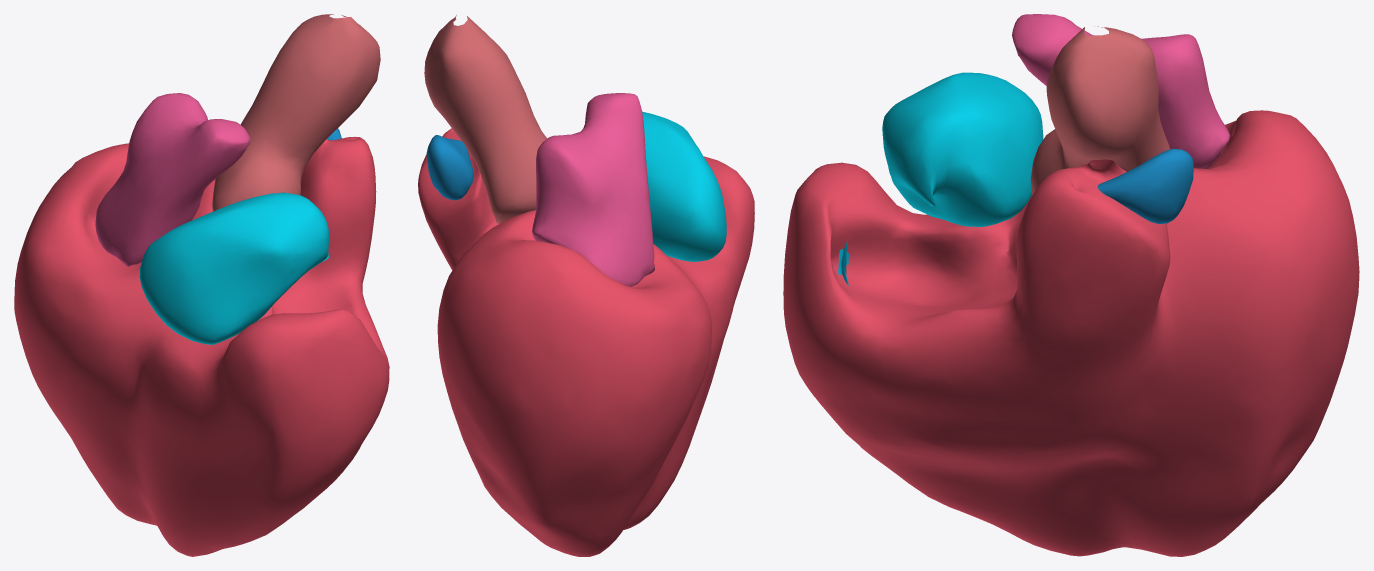
Rendered from frame_64.glb.
3 renders of one model, left to right at view 1: azimuth 30°, elevation 25°; view 2: azimuth 150°, elevation 25°; view 3: azimuth 270°, elevation 25°, orthographic. The views are drawn at different scales.
Visible parts, largest first — view 1: Renderer Node; view 2: Renderer Node; view 3: Renderer Node.
Boxes of the visible parts, x1,y1,x2,y2 form: Renderer Node: (14,14,389,556); Renderer Node: (418,15,754,556); Renderer Node: (783,14,1359,556).
Size of the model in its own units: 105 by 162 by 136.
